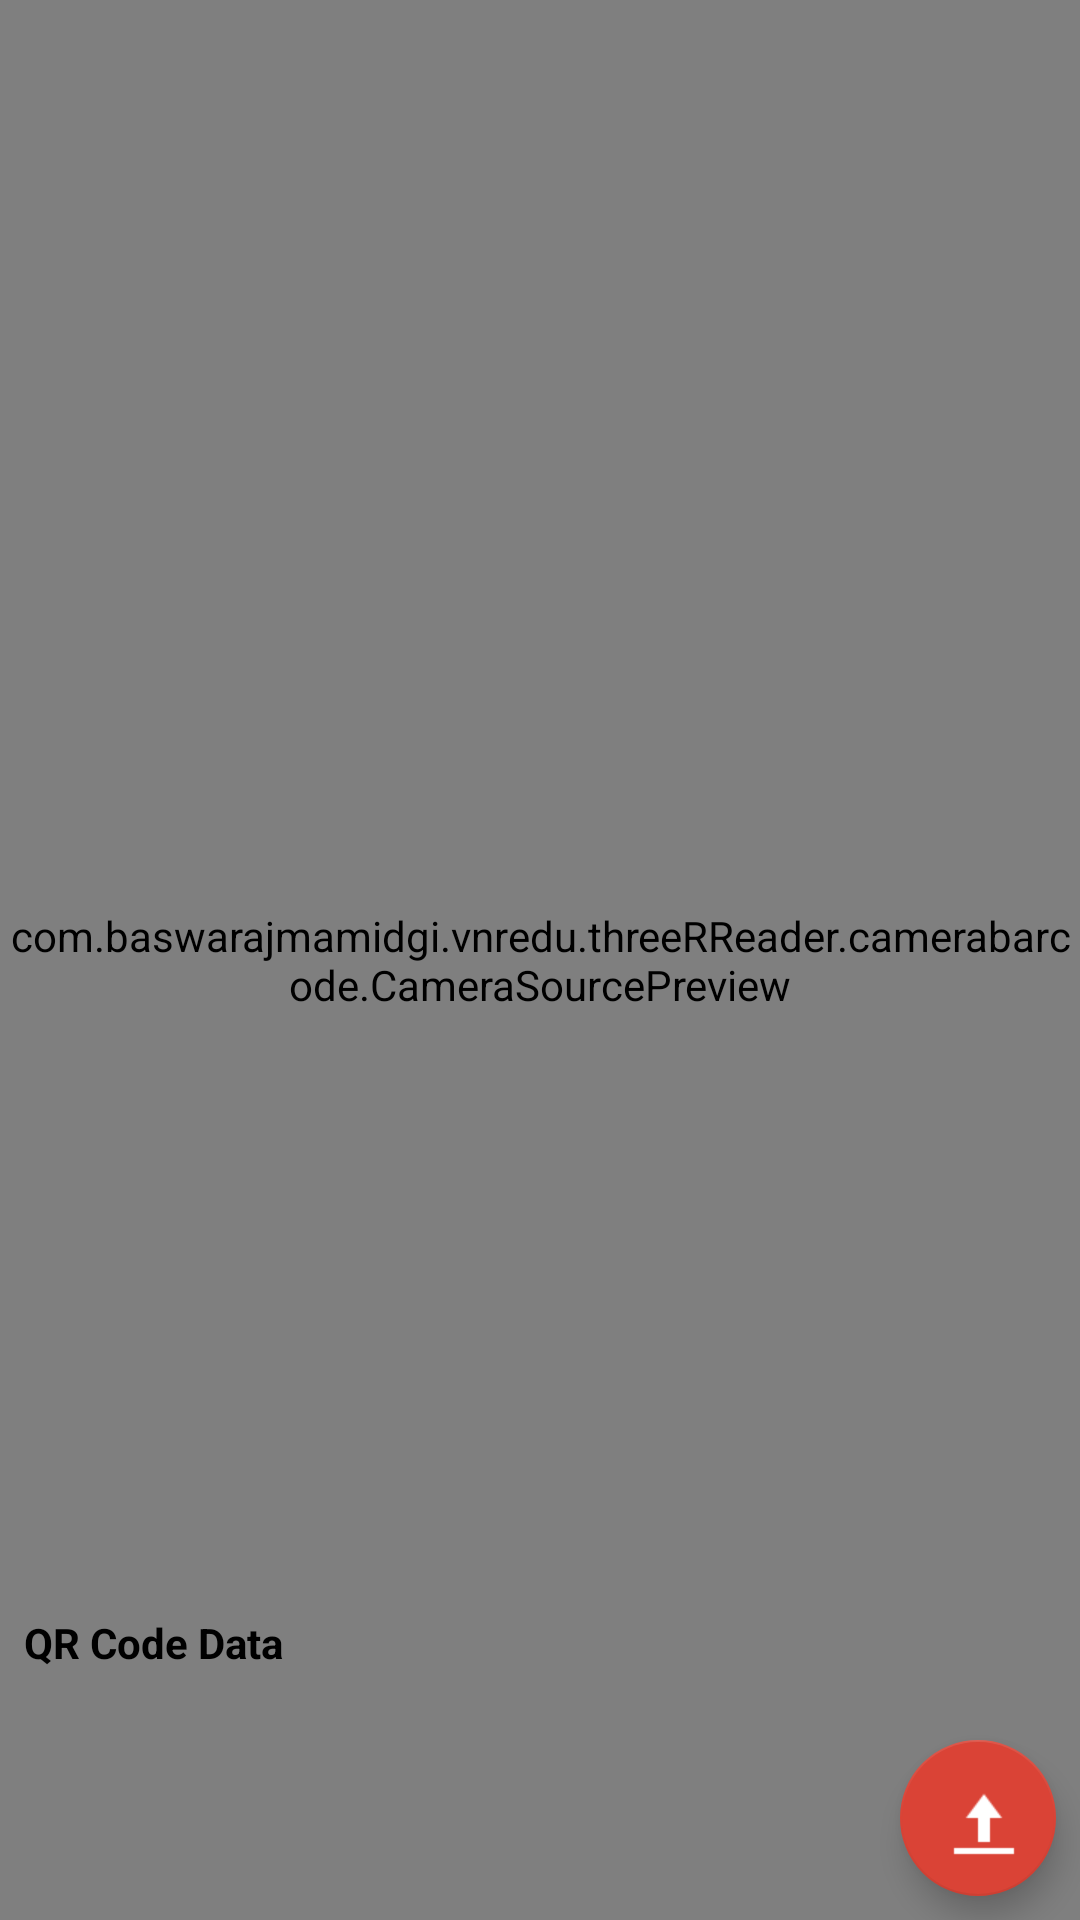

Screen size 1080px x 1920px. Icon name, then its center in pixels as [x,y]:
upload: [978,1818]
